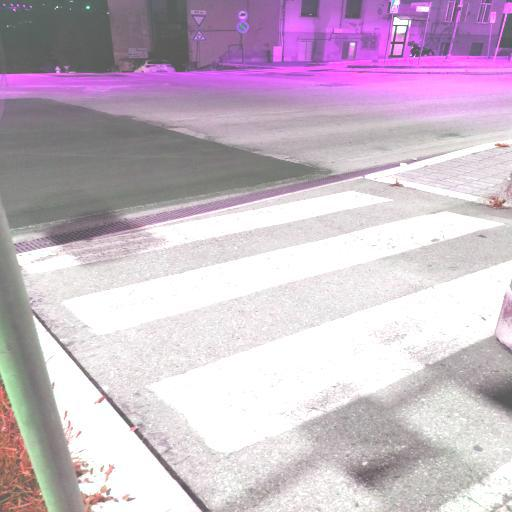crosswalk: (11, 174, 512, 342)
